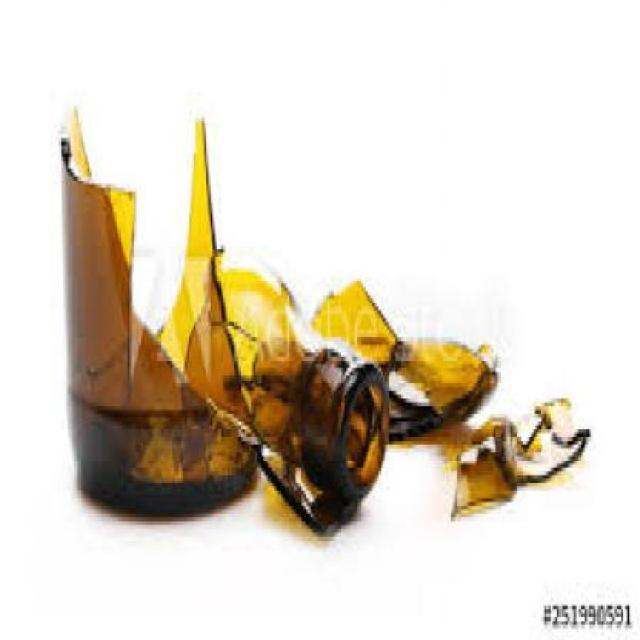kaca: (57, 97, 255, 518), (182, 242, 388, 498), (311, 275, 495, 437), (451, 395, 586, 517), (255, 437, 357, 537), (494, 402, 588, 483)
